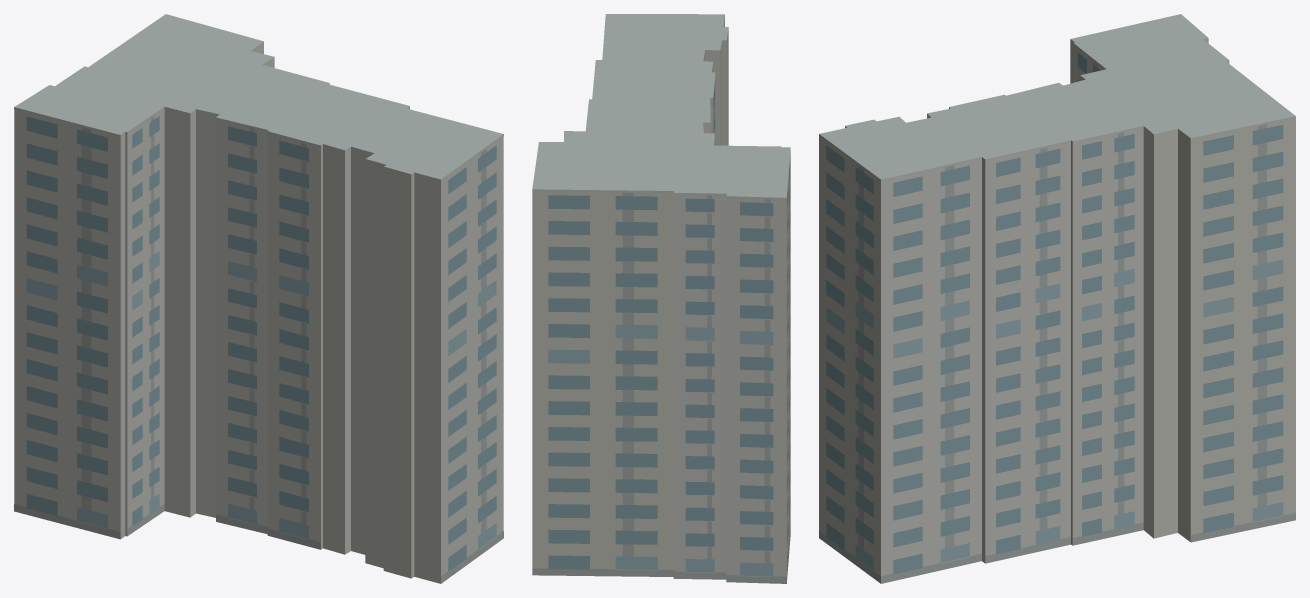
The model's file is survey-upis-32724939.glb.
3 renders of one model, left to right at view 1: azimuth 30°, elevation 25°; view 2: azimuth 150°, elevation 25°; view 3: azimuth 270°, elevation 25°, orthographic. The views are drawn at different scales.
Parts seen in each view (by area): view 1: survey-upis-32724939.tmp; view 2: survey-upis-32724939.tmp; view 3: survey-upis-32724939.tmp.
Boxes of the visible parts, box(x1,y1,x2,y2) form: survey-upis-32724939.tmp: box(14, 14, 503, 583); survey-upis-32724939.tmp: box(532, 14, 790, 583); survey-upis-32724939.tmp: box(819, 14, 1295, 583).
Size of the model in its own units: 40.22 by 45.75 by 48.91.
